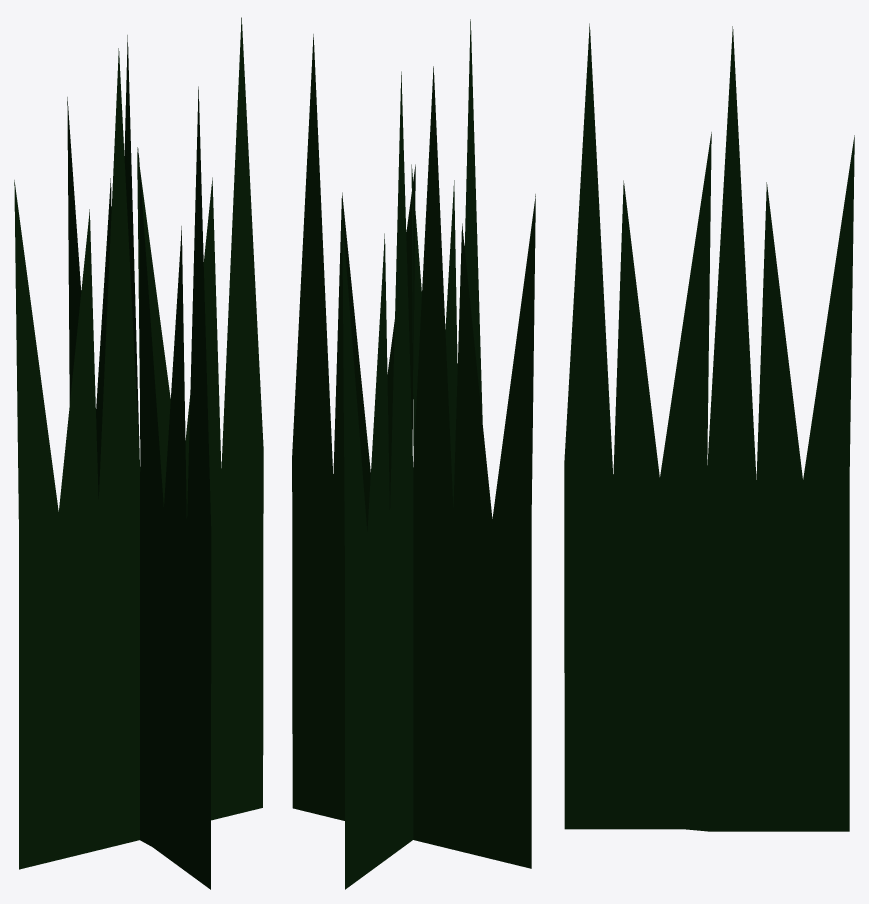
File: Grass.obj
The picture shows the model from 3 angles, left to right: view 1: azimuth 30°, elevation 25°; view 2: azimuth 150°, elevation 25°; view 3: azimuth 270°, elevation 25°; orthographic projection. The views are drawn at different scales.
Visible parts, largest first — view 1: Grass; view 2: Grass; view 3: Grass.
Part boxes in pixels (bbox=[...]): Grass: bbox=[14, 17, 263, 889]; Grass: bbox=[292, 19, 535, 889]; Grass: bbox=[564, 23, 854, 831].
Bounding box in the file's own units: 0.0925 × 0.2842 × 0.0925.
